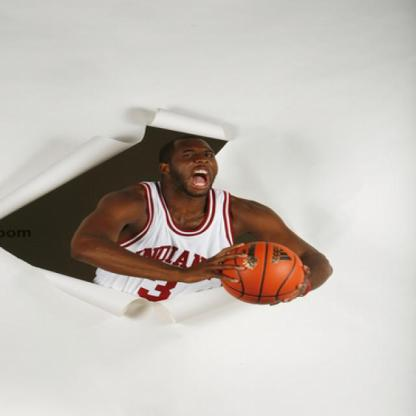basketball: (219, 242, 305, 305)
